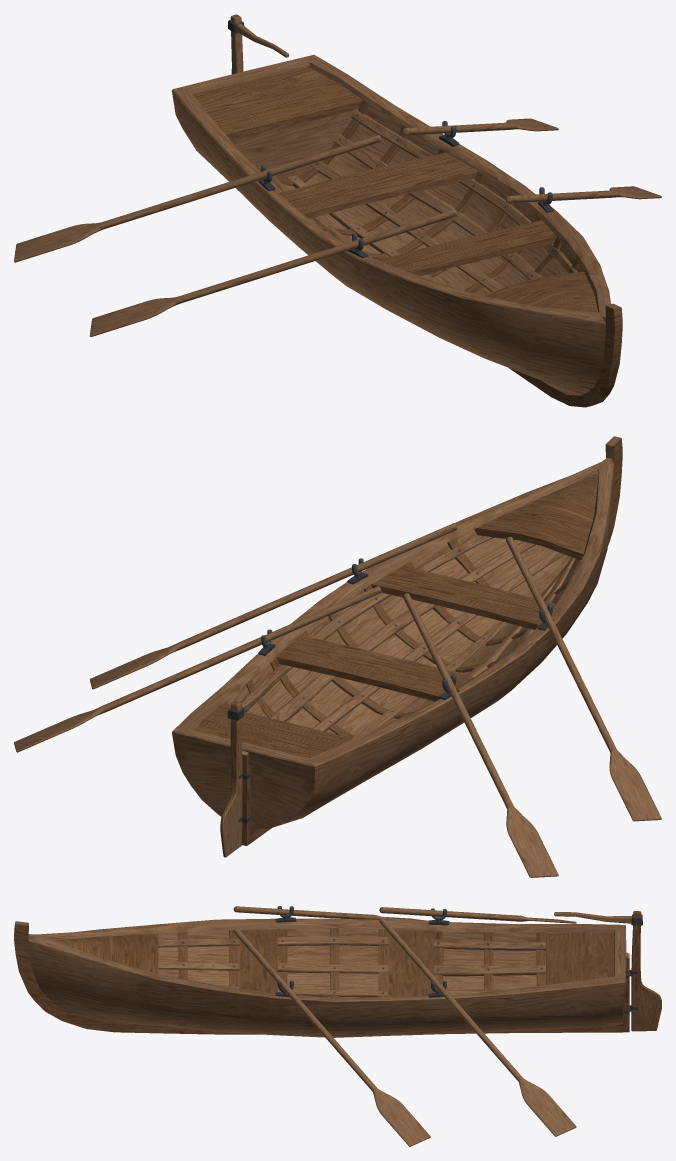
File: wooden_rowing_boat_with_oars.glb
3 renders of one model, top to bottom at view 1: azimuth 30°, elevation 25°; view 2: azimuth 150°, elevation 25°; view 3: azimuth 270°, elevation 25°, orthographic. The views are drawn at different scales.
Visible parts, largest first — view 1: Object_3; view 2: Object_3; view 3: Object_3.
Part boxes in pixels (<box>): Object_3: <box>14,14,661,407</box>; Object_3: <box>14,436,661,877</box>; Object_3: <box>14,906,661,1146</box>.
Bounding box in the file's own units: 9.37 × 2.34 × 11.29.
1 material, 1 textured.
